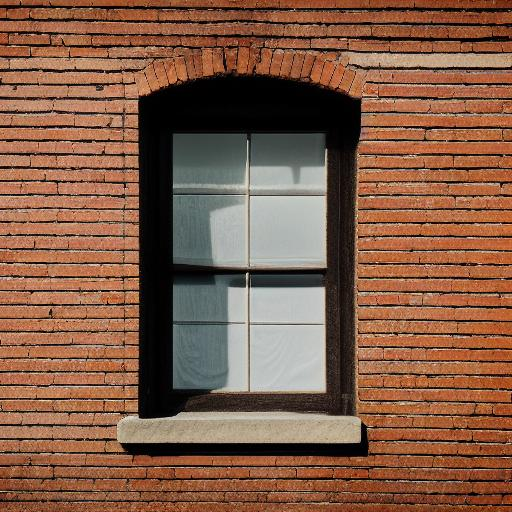Window: (116, 49, 365, 447)
